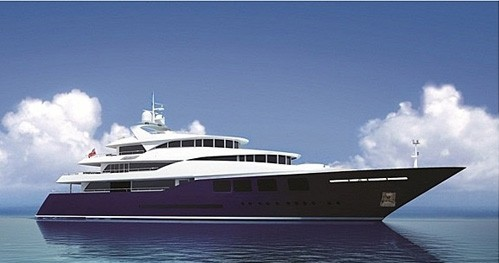yacht: (32, 95, 466, 221)
